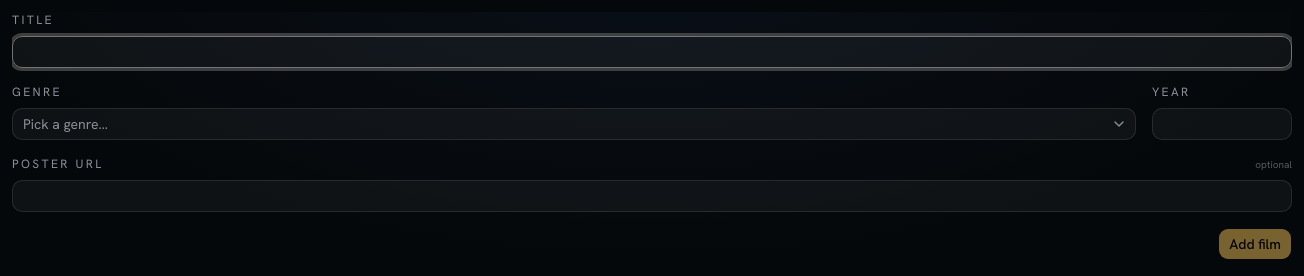
Test: MovieForm › filters non-digit characters from the year input
The image size is (1304, 276).
Type "1a9b9c7" into the field labelled "Year". click: (1222, 124)
box: [1152,108,1292,140]
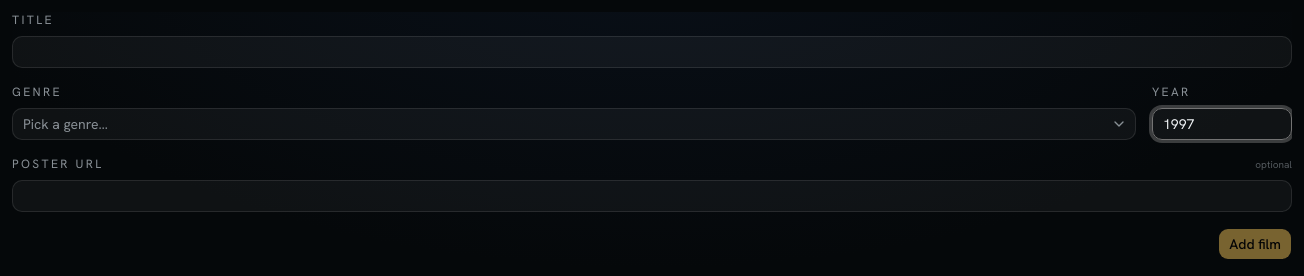
Result: the field labelled "Year" holds "1997" at [1152,108,1292,140]
